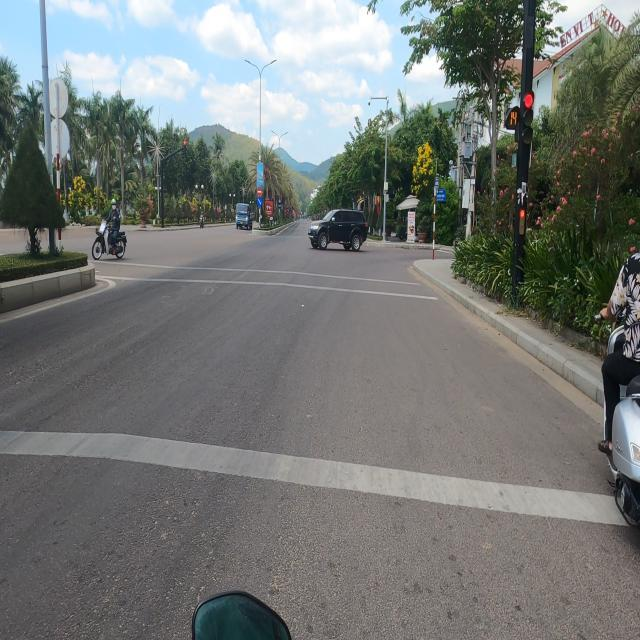walk-crossing: (102, 253, 444, 304)
